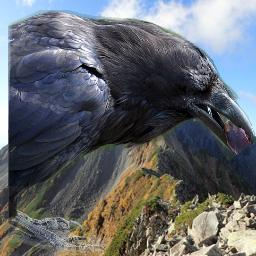Crow: (8, 10, 256, 255)
